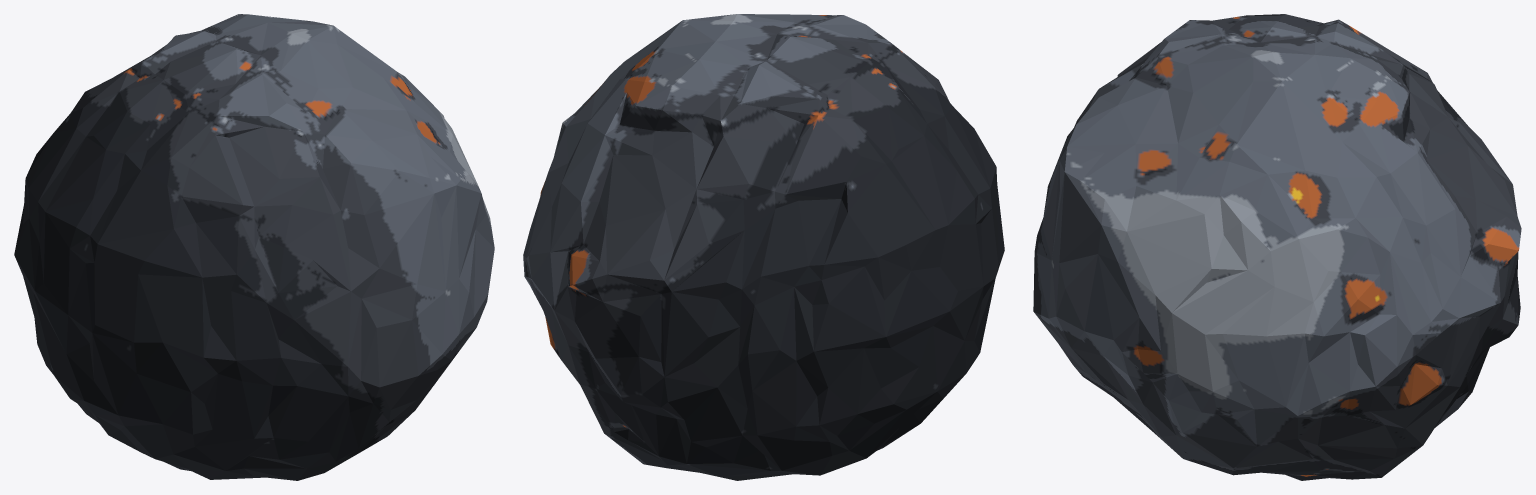
The model's file is iron-ore-node.glb.
The picture shows the model from 3 angles, left to right: view 1: azimuth 30°, elevation 25°; view 2: azimuth 150°, elevation 25°; view 3: azimuth 270°, elevation 25°; orthographic projection.
Visible parts, largest first — view 1: iron-ore-node; view 2: iron-ore-node; view 3: iron-ore-node.
Part boxes in pixels (left/top/right/bottom): iron-ore-node: left=14, top=14, right=494, bottom=480; iron-ore-node: left=523, top=14, right=1004, bottom=480; iron-ore-node: left=1033, top=14, right=1521, bottom=480.
Bounding box in the file's own units: 0.897 × 0.9012 × 0.9422.
Materials: 1 (1 with a texture image).
